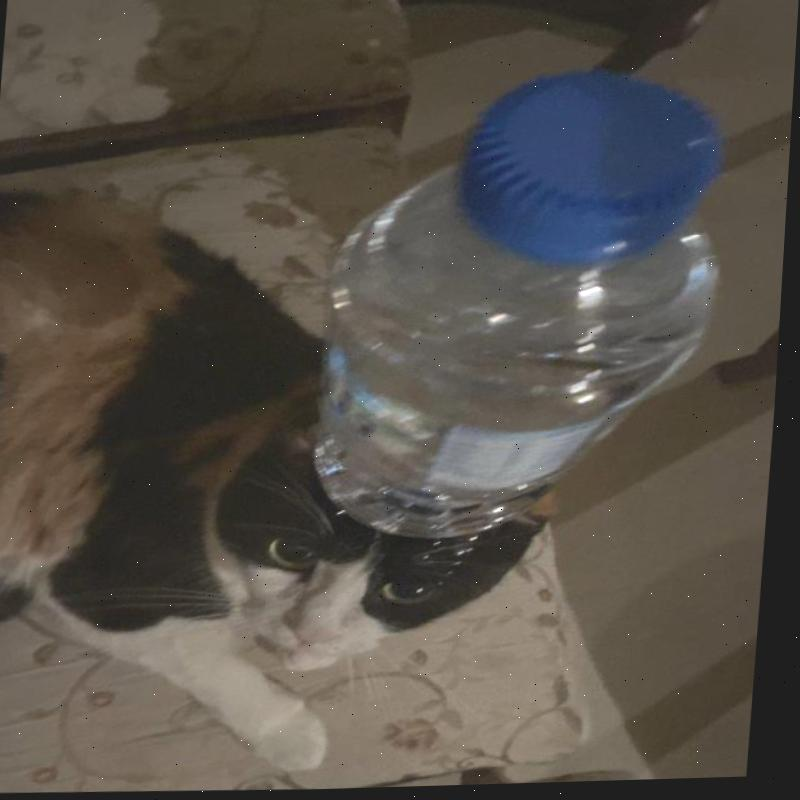botella: (306, 68, 735, 546)
